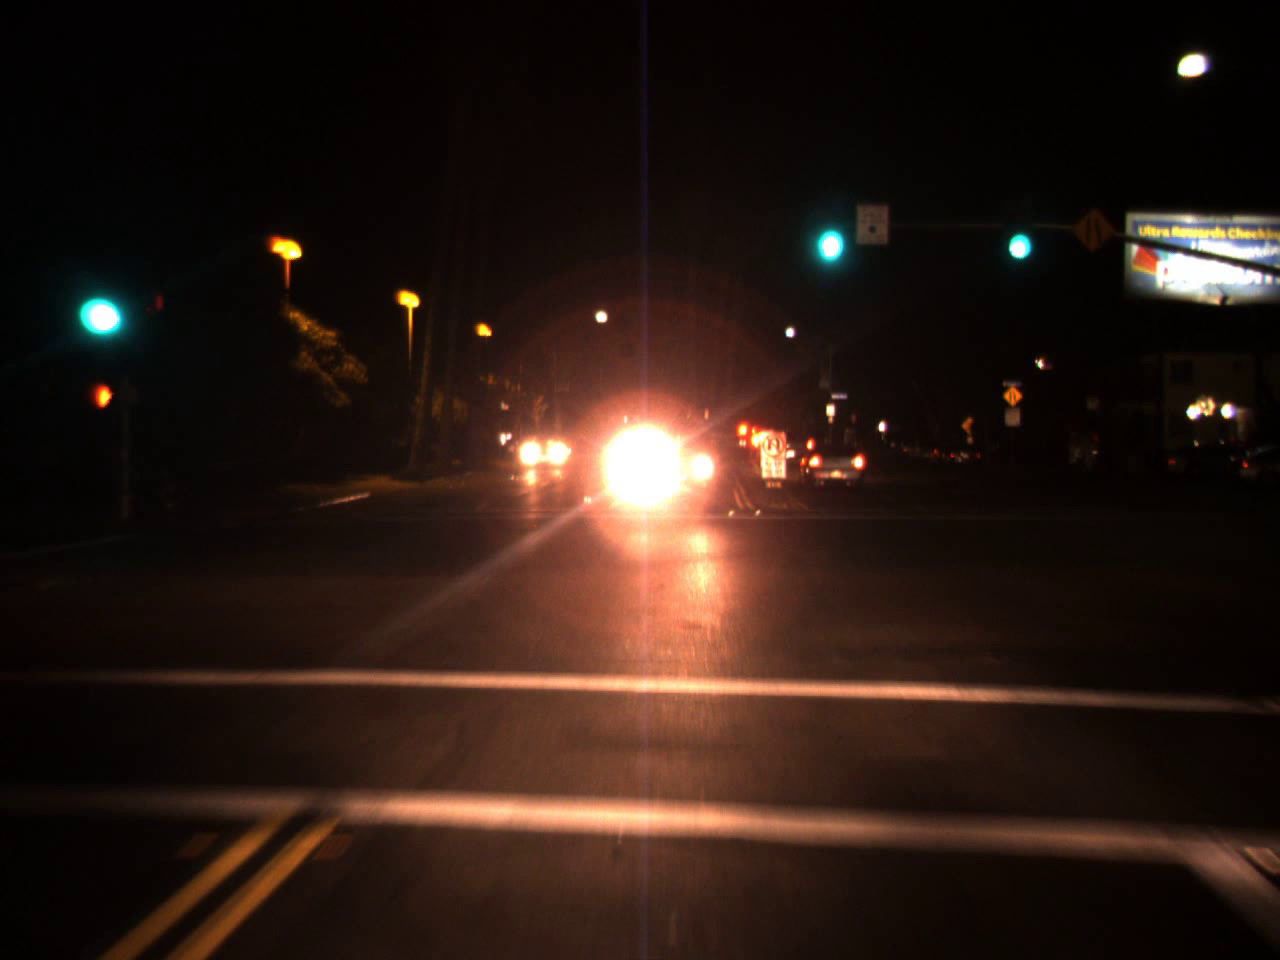go: (74, 261, 126, 345), (805, 186, 850, 273), (1003, 203, 1035, 266)
